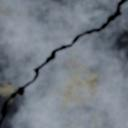brick: (2, 2, 127, 127), (0, 0, 118, 108)
crack: (0, 0, 127, 127)
